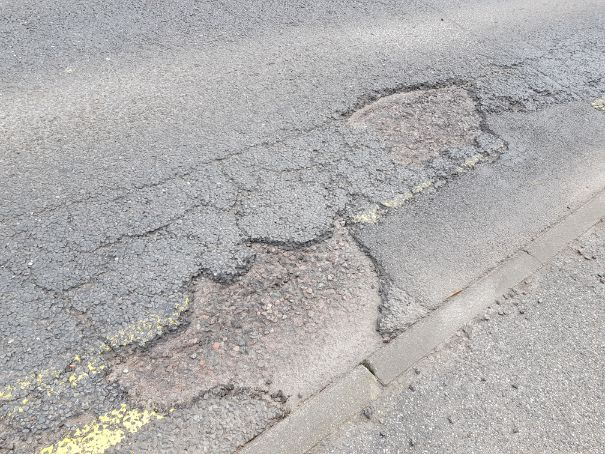pothole: (96, 208, 393, 413), (338, 74, 508, 167)
